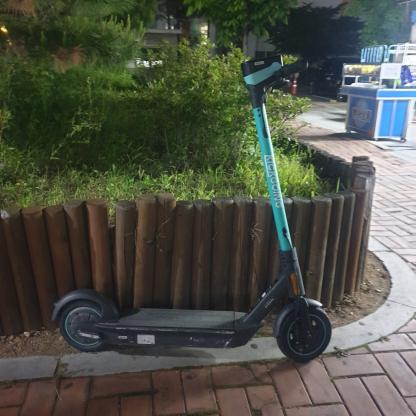kickboard: (34, 45, 340, 368)
